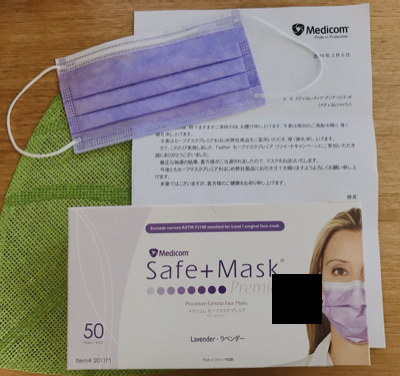with_mask: (322, 257, 368, 346)
